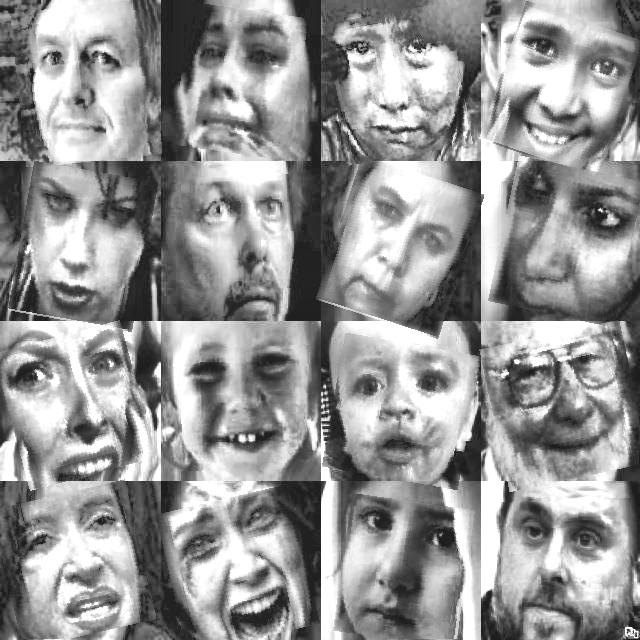angry: (325, 163, 474, 331), (0, 486, 149, 640), (495, 161, 637, 322), (14, 166, 152, 328)
fear: (1, 328, 148, 484), (182, 175, 300, 317)
happy: (486, 326, 640, 485), (14, 2, 159, 164), (489, 9, 633, 171), (174, 346, 312, 470)
neutral: (328, 339, 476, 485), (495, 499, 632, 640)
sad: (163, 490, 312, 640), (328, 7, 468, 161), (176, 6, 304, 158), (337, 497, 470, 640)
